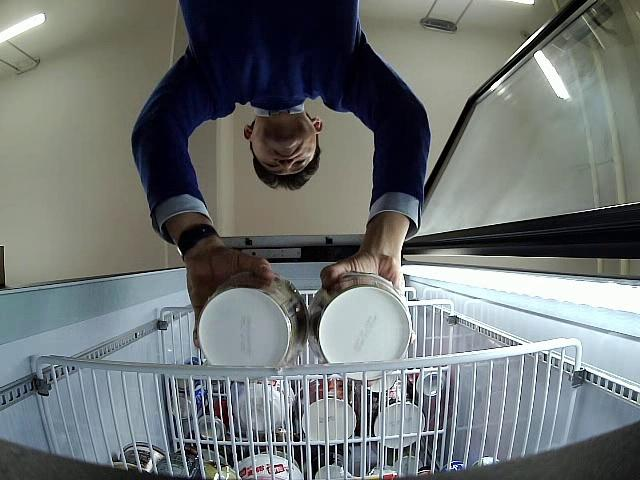00_hand: (319, 240, 415, 344), (186, 238, 275, 348)
03_chapagetti_L: (309, 272, 412, 382), (197, 272, 308, 367)
